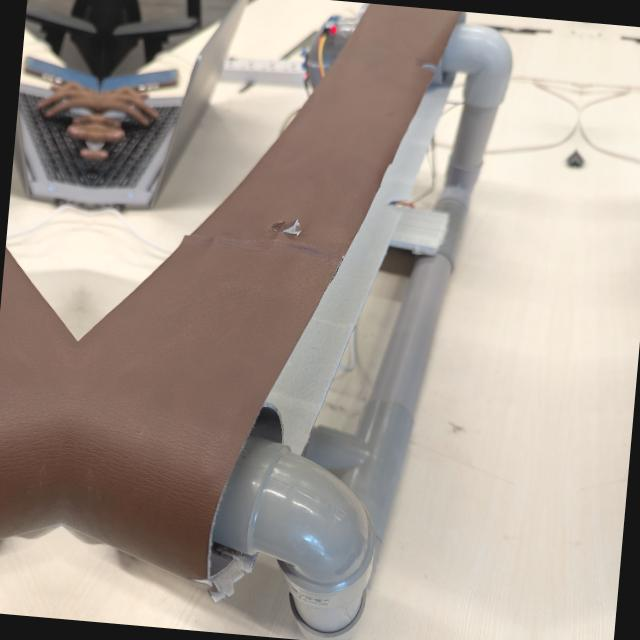joint_damage: (235, 203, 322, 251)
